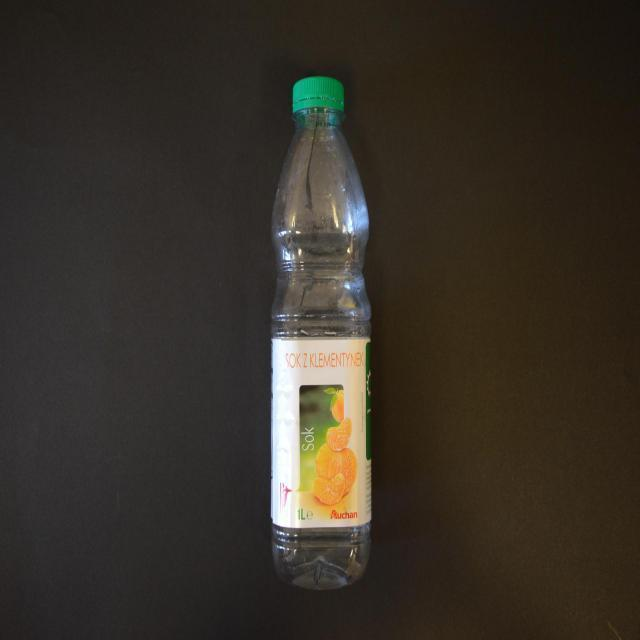plastic_bottle: (269, 76, 372, 591)
